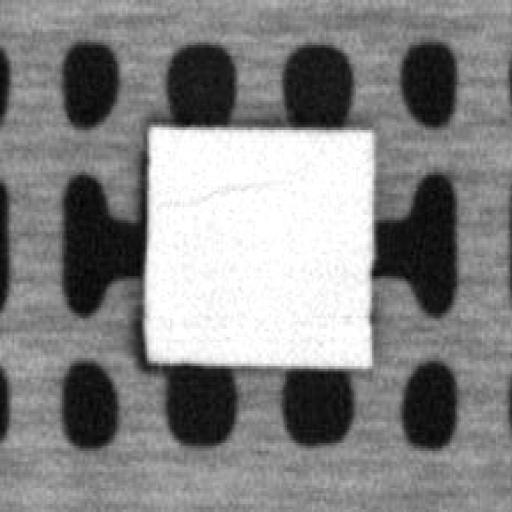DIE_CRACK: (158, 170, 290, 207)
